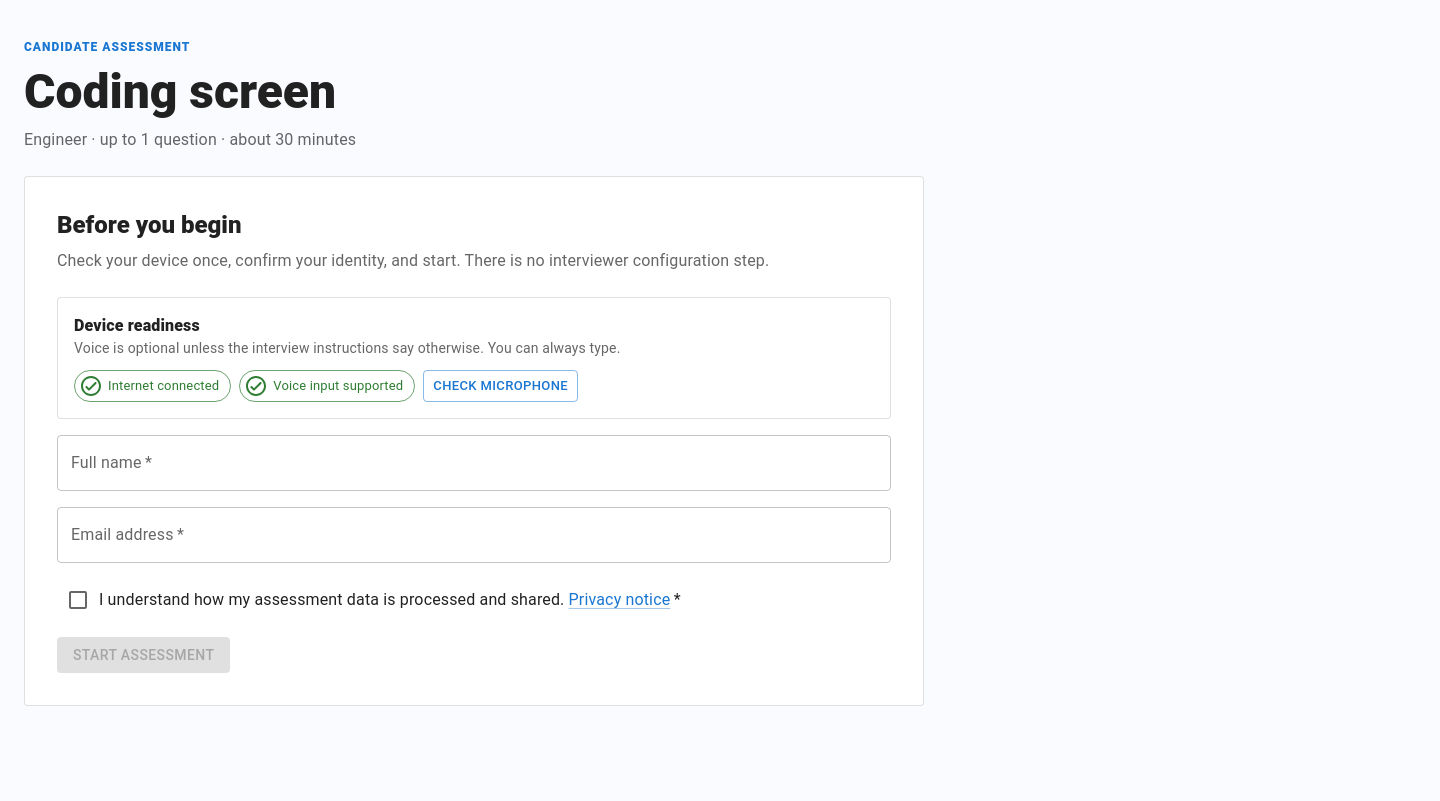
candidate assessment interview UX › scopes the coding round's camera preview to its own sized slot instead of floating over the round footer
In the field labelled "Full name *": (474, 463) [57,435,891,491], type "Candidate"
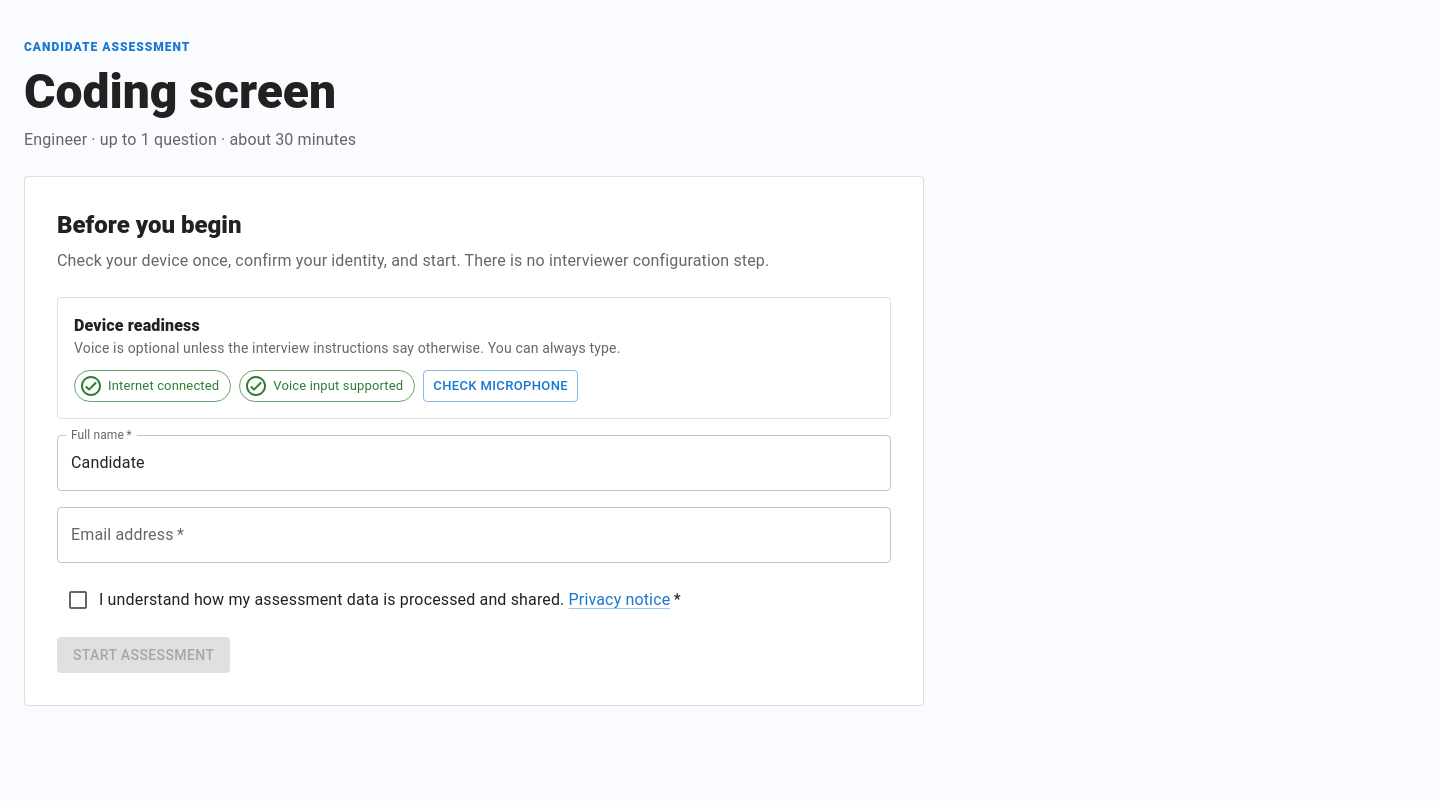
In the field labelled "Email address *": (474, 535) [57,507,891,563], type "candidate@example.com"
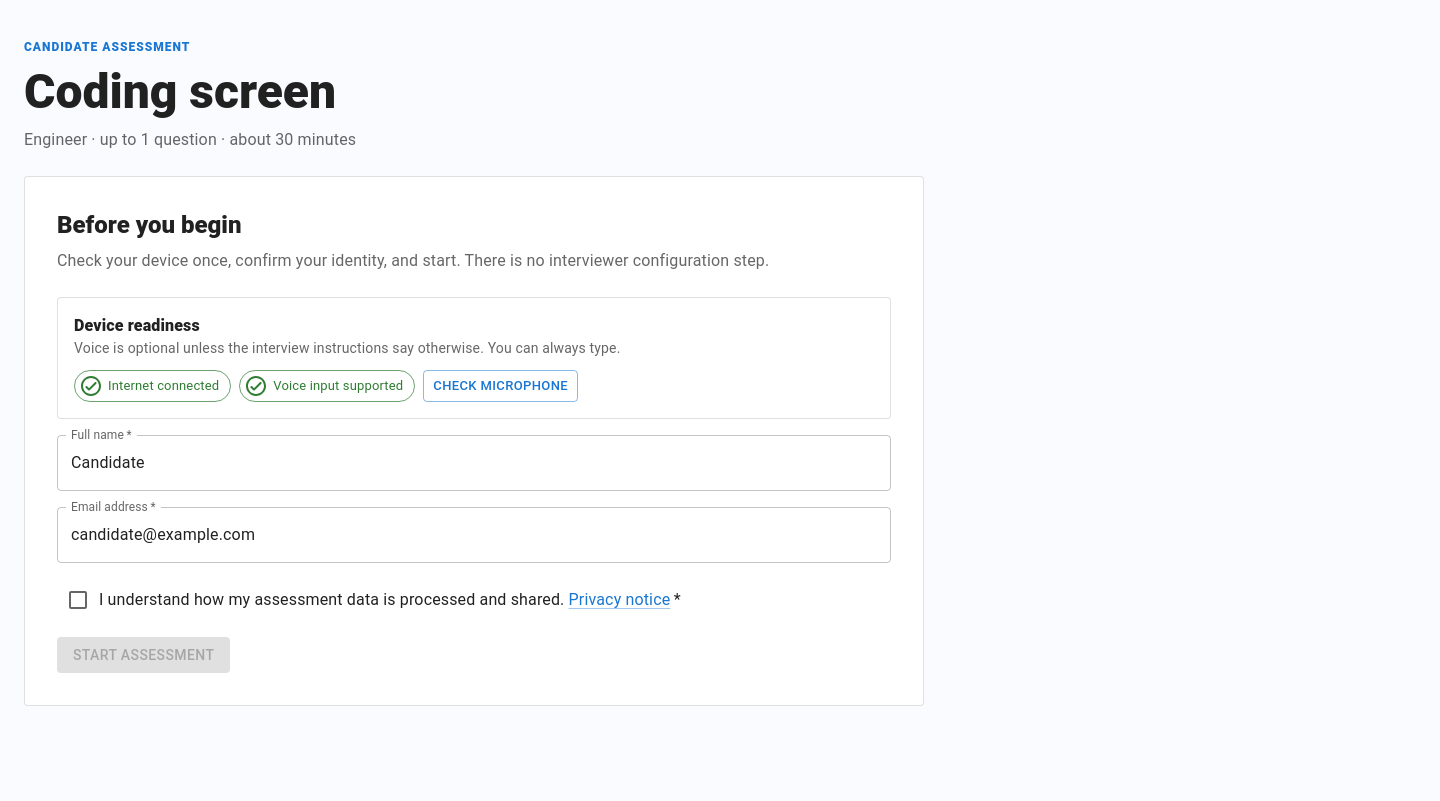
Click the checkbox: (373, 600) [66,588,681,612]
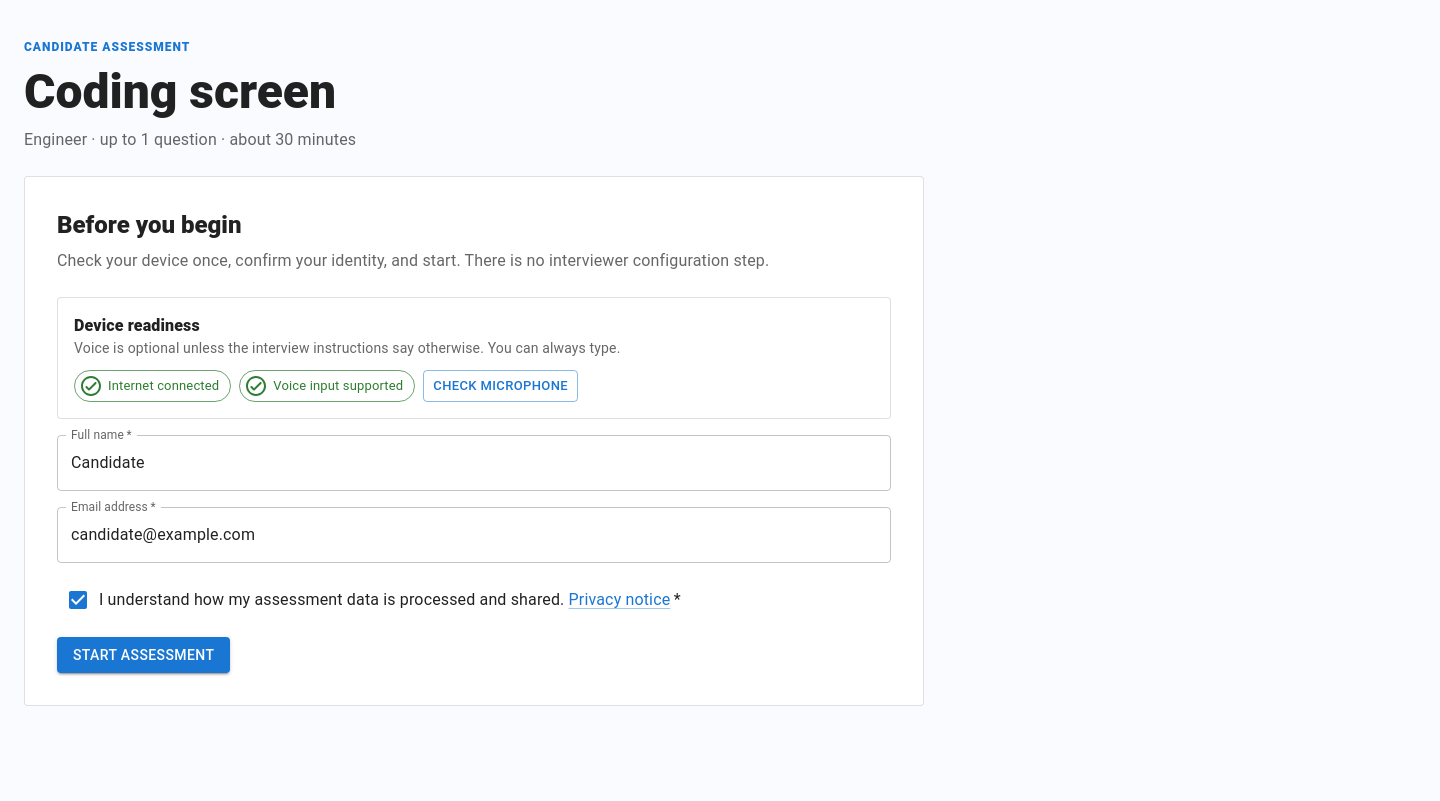
Click the button "Start assessment": (144, 655) [57,637,230,674]
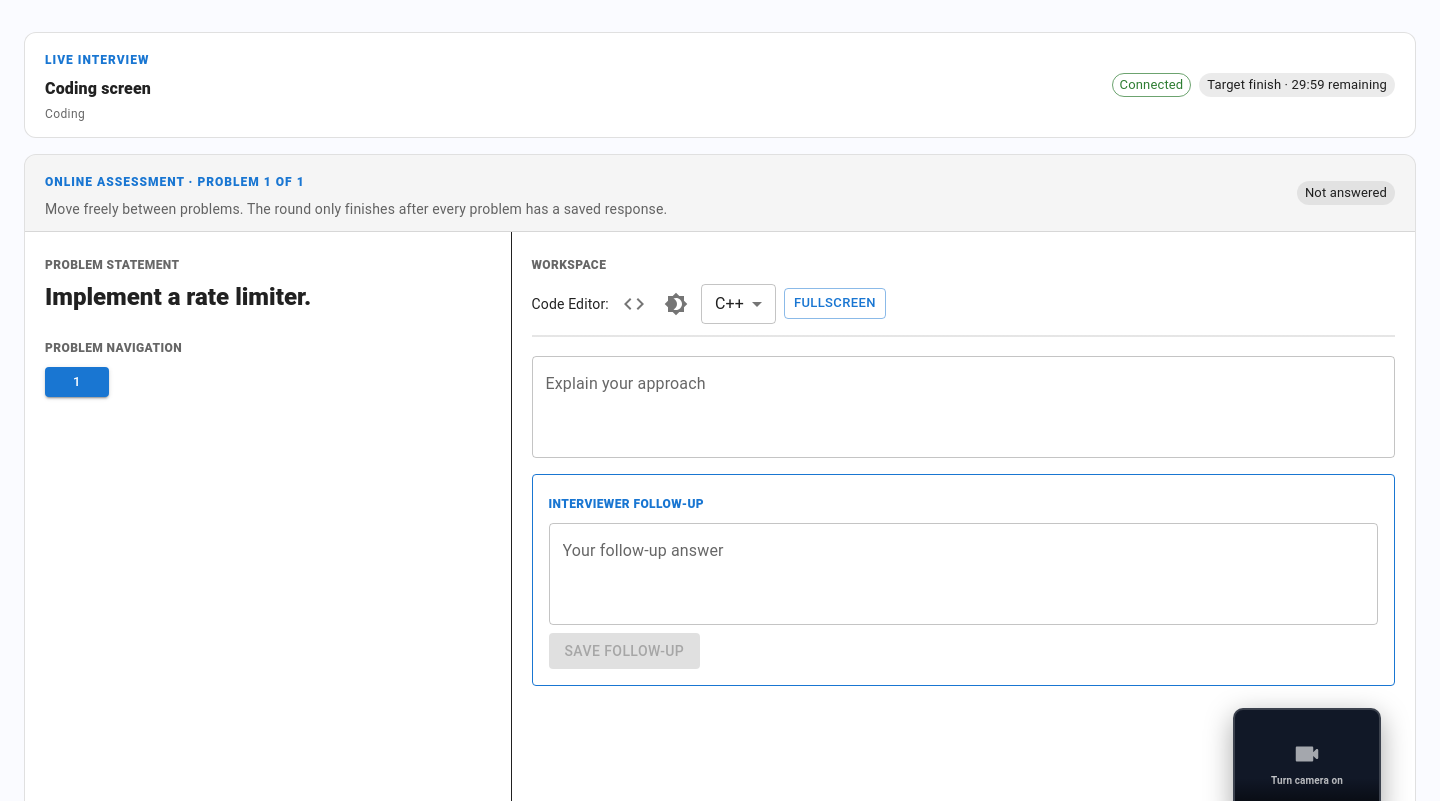
Expected: the heading "Implement a rate limiter." is shown, [45,283,311,311]
